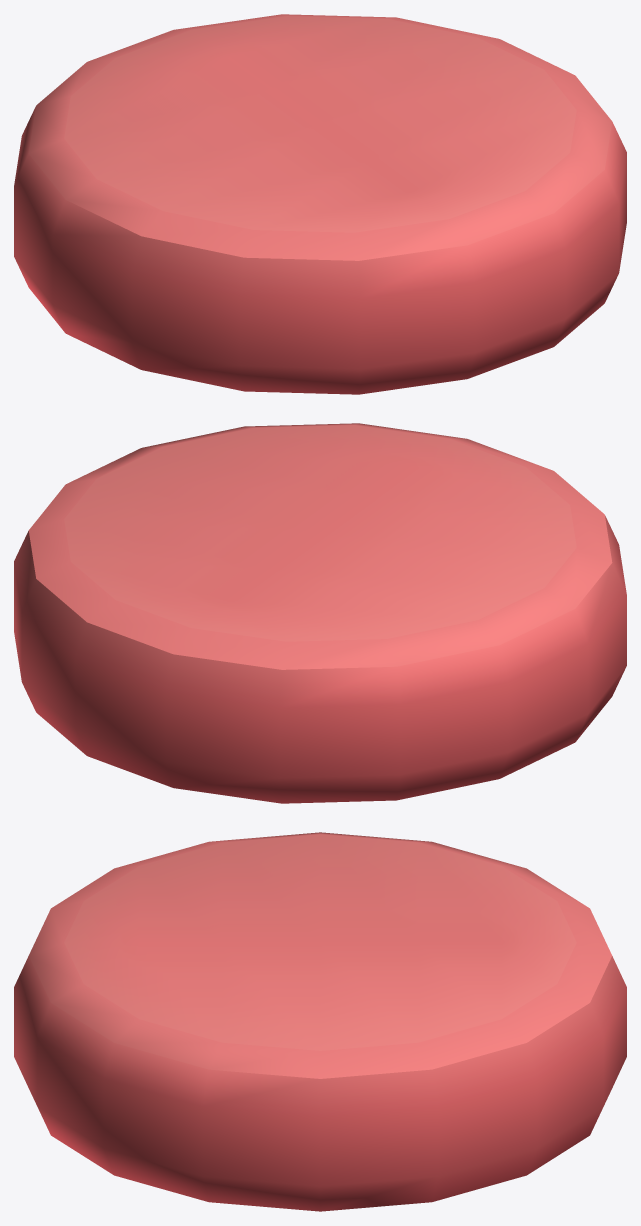
Rendered from patty.glb.
3 renders of one model, top to bottom at view 1: azimuth 30°, elevation 25°; view 2: azimuth 150°, elevation 25°; view 3: azimuth 270°, elevation 25°, orthographic.
Visible parts, largest first — view 1: food_ingredient_burger_uncooked; view 2: food_ingredient_burger_uncooked; view 3: food_ingredient_burger_uncooked.
Boxes of the visible parts, x1,y1,x2,y2 form: food_ingredient_burger_uncooked: [14, 14, 626, 394]; food_ingredient_burger_uncooked: [14, 423, 626, 803]; food_ingredient_burger_uncooked: [14, 832, 626, 1211].
Bounding box in the file's own units: 0.7 × 0.2 × 0.7.
Materials: 1 (1 with a texture image).
